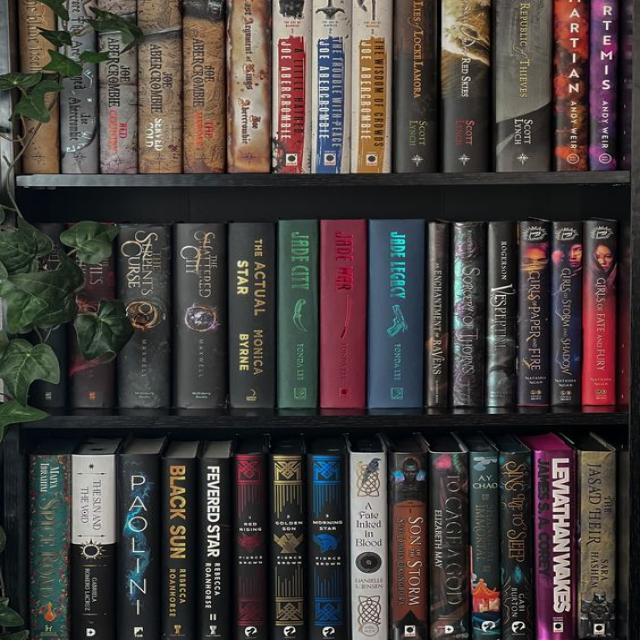book: (370, 219, 422, 408), (119, 224, 171, 407), (497, 1, 552, 172), (177, 222, 226, 409), (441, 0, 494, 172), (231, 222, 276, 408), (118, 455, 162, 640), (320, 220, 363, 407), (393, 0, 439, 172), (183, 1, 229, 172), (72, 455, 114, 640), (535, 451, 575, 640), (278, 220, 318, 408), (30, 454, 70, 640), (138, 0, 181, 172), (578, 450, 616, 640), (391, 451, 429, 640), (351, 0, 392, 172), (61, 1, 101, 172), (431, 452, 467, 640), (18, 0, 57, 172), (230, 0, 269, 172), (351, 452, 386, 640), (310, 0, 348, 172), (310, 454, 345, 640), (273, 0, 310, 174), (468, 451, 501, 640), (582, 220, 615, 407), (233, 453, 266, 640), (502, 451, 534, 640), (102, 2, 137, 174), (198, 458, 231, 640), (272, 454, 304, 640), (518, 222, 550, 406), (552, 1, 586, 170), (453, 222, 483, 406), (164, 456, 194, 640), (488, 222, 514, 406), (554, 223, 580, 406), (590, 0, 617, 170), (428, 223, 448, 407)
